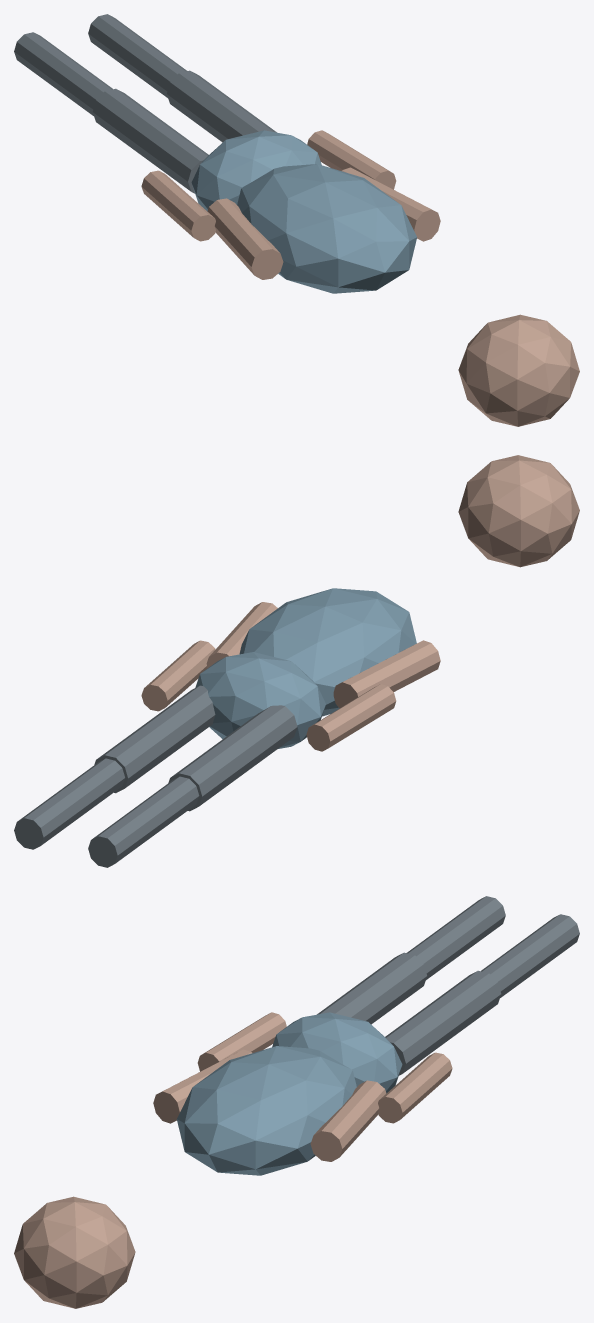
The model's file is adolescent-low.glb.
3 renders of one model, top to bottom at view 1: azimuth 30°, elevation 25°; view 2: azimuth 150°, elevation 25°; view 3: azimuth 330°, elevation 25°, orthographic.
Visible parts, largest first — view 1: torso, head, pelvis, left_thigh, right_thigh, right_lower_leg, left_lower_leg, left_upper_arm, left_forearm, right_forearm, right_upper_arm; view 2: torso, head, pelvis, left_thigh, right_thigh, left_lower_leg, right_lower_leg, left_upper_arm, left_forearm, right_forearm, right_upper_arm; view 3: torso, head, pelvis, right_thigh, left_thigh, left_lower_leg, right_lower_leg, right_upper_arm, right_forearm, left_forearm, left_upper_arm.
Part boxes in pixels (left/top/right/bottom): torso: left=237, top=164, right=417, bottom=293; head: left=458, top=314, right=579, bottom=426; pelvis: left=191, top=130, right=321, bottom=211; left_thigh: left=92, top=88, right=208, bottom=193; right_thigh: left=167, top=70, right=276, bottom=142; right_lower_leg: left=88, top=14, right=187, bottom=97; left_lower_leg: left=14, top=32, right=112, bottom=115; left_upper_arm: left=207, top=198, right=283, bottom=279; left_forearm: left=141, top=170, right=215, bottom=241; right_forearm: left=307, top=130, right=396, bottom=189; right_upper_arm: left=342, top=167, right=440, bottom=241; torso: left=239, top=588, right=416, bottom=716; head: left=458, top=455, right=579, bottom=567; pelvis: left=195, top=652, right=325, bottom=748; left_thigh: left=168, top=705, right=297, bottom=811; right_thigh: left=94, top=685, right=215, bottom=793; left_lower_leg: left=88, top=776, right=199, bottom=867; right_lower_leg: left=14, top=758, right=124, bottom=849; left_upper_arm: left=333, top=640, right=440, bottom=708; left_forearm: left=306, top=684, right=396, bottom=751; right_forearm: left=141, top=640, right=215, bottom=711; right_upper_arm: left=206, top=602, right=277, bottom=668; torso: left=176, top=1046, right=356, bottom=1175; head: left=14, top=1196, right=135, bottom=1308; pelvis: left=272, top=1012, right=402, bottom=1093; right_thigh: left=385, top=970, right=501, bottom=1075; left_thigh: left=317, top=952, right=426, bottom=1024; left_lower_leg: left=406, top=896, right=505, bottom=979; right_lower_leg: left=481, top=914, right=579, bottom=997; right_upper_arm: left=310, top=1080, right=386, bottom=1161; right_forearm: left=378, top=1052, right=452, bottom=1123; left_forearm: left=197, top=1012, right=286, bottom=1071; left_upper_arm: left=153, top=1049, right=251, bottom=1123.
Bounding box in the file's own units: 1.25 × 0.5888 × 5.09.
